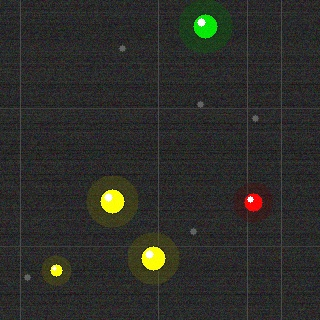green_normal: (191, 12, 219, 40)
red_fault: (242, 191, 264, 213)
yellow_warning: (139, 244, 167, 272), (98, 187, 126, 215), (48, 262, 64, 278)
